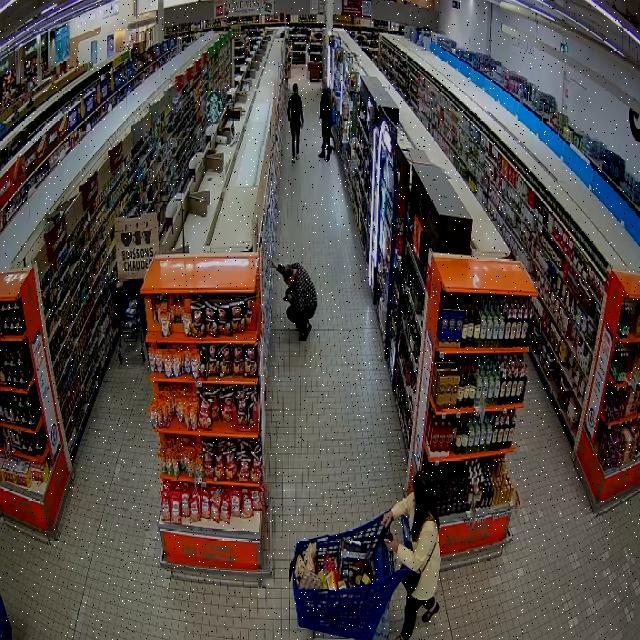hands: (385, 534, 398, 551), (383, 511, 393, 527), (269, 259, 276, 268)
person: (384, 471, 440, 639), (273, 263, 316, 340), (287, 83, 303, 162), (318, 79, 332, 161)
